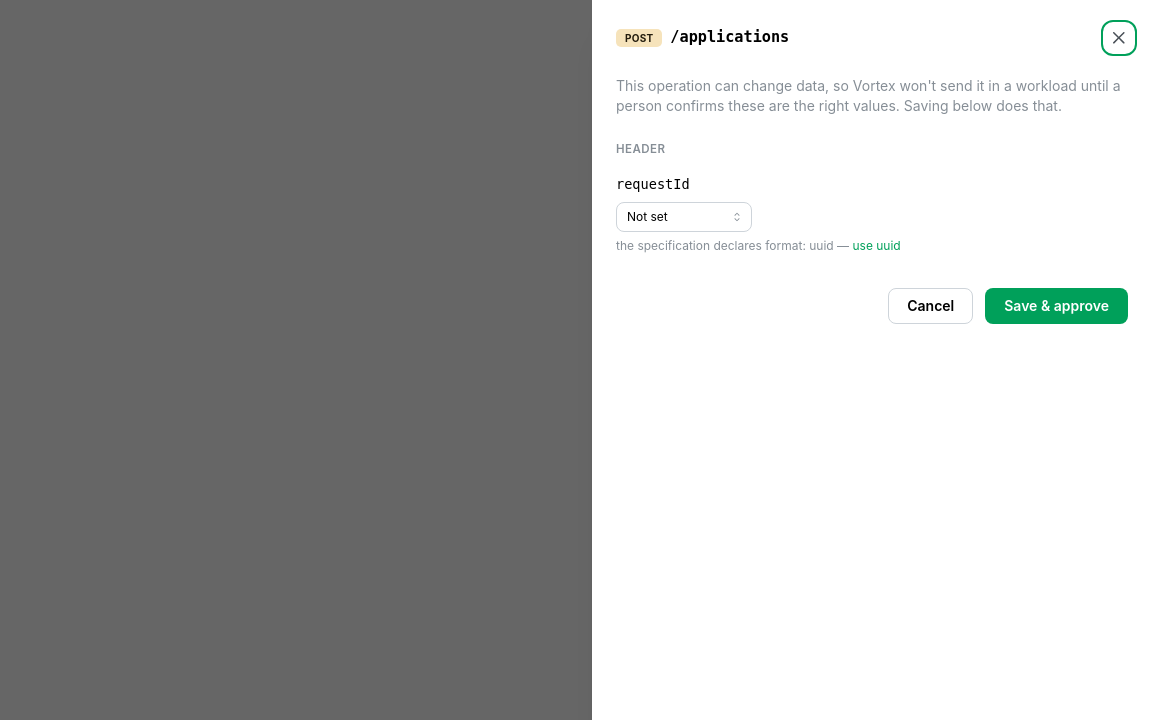
Test: RequestDataDrawer › applies a suggestion only when it is accepted
Click the button "use uuid" at (877, 246), box [852,238,901,254]
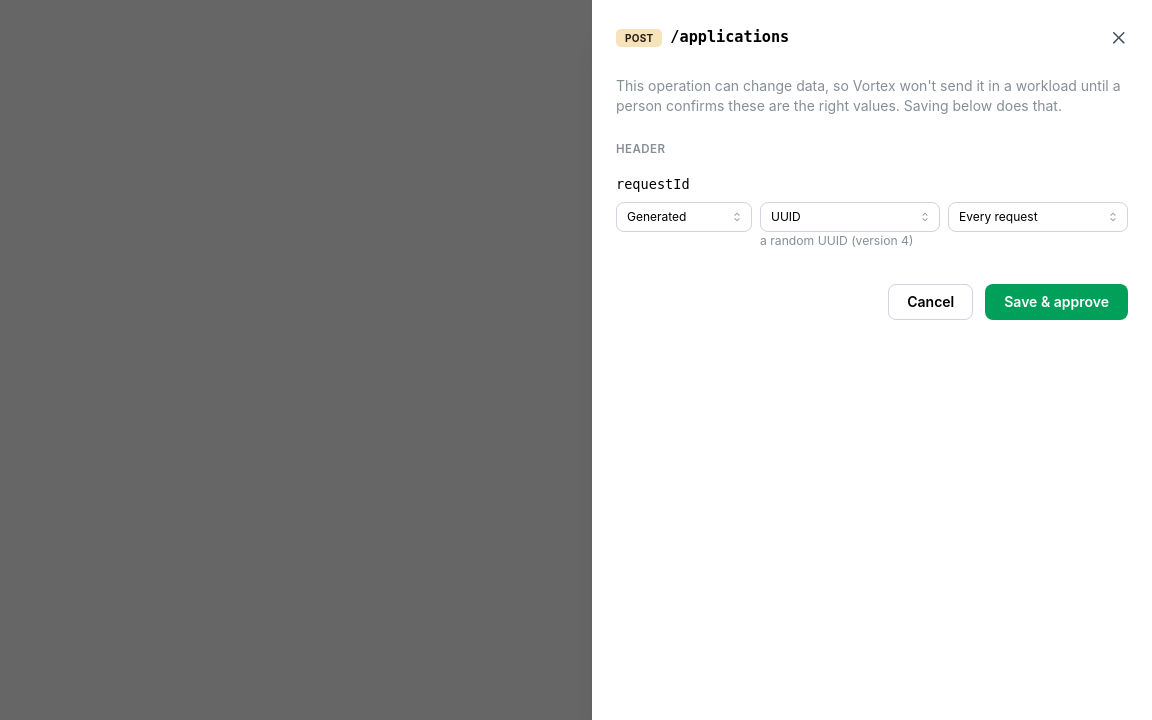
Expected: the dropdown named "Generator for requestId" holds "UUID", [760,202,940,232]
